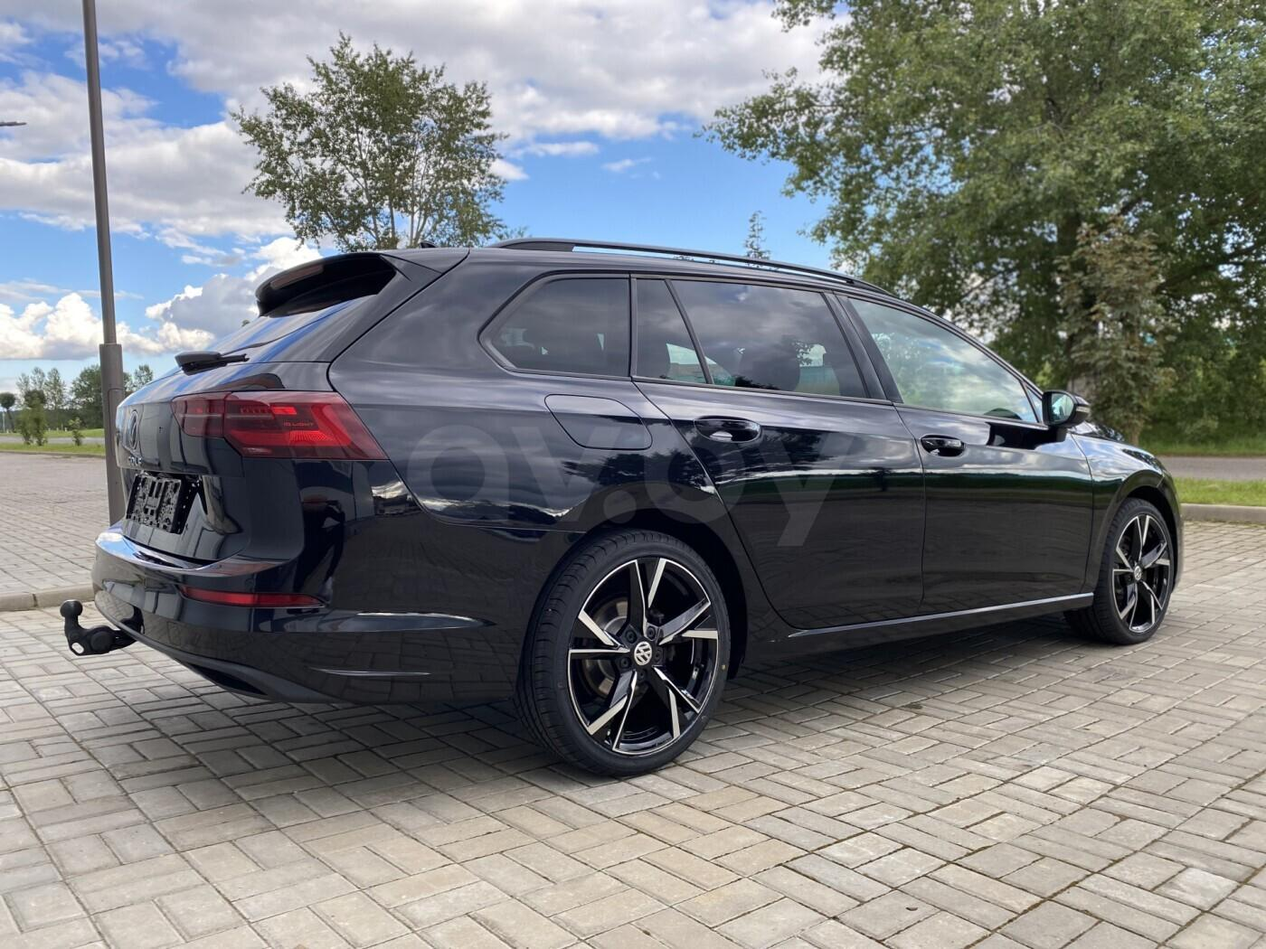Golf_2019: (89, 240, 1186, 758)
